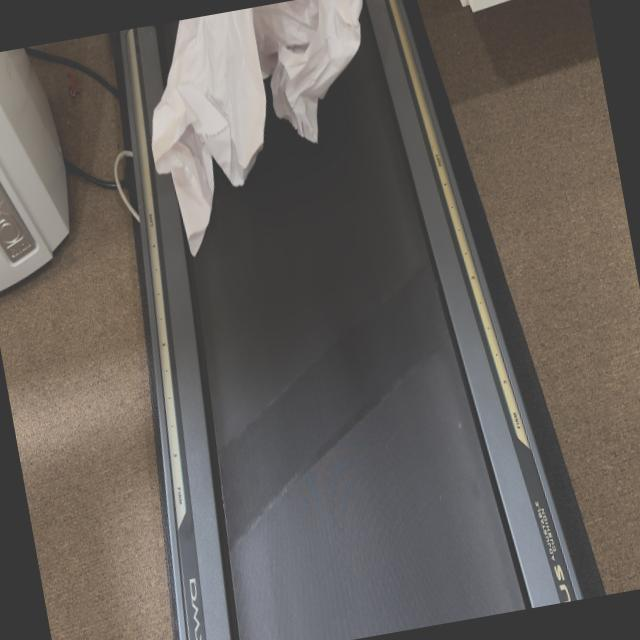Recycle: (129, 0, 400, 253)
